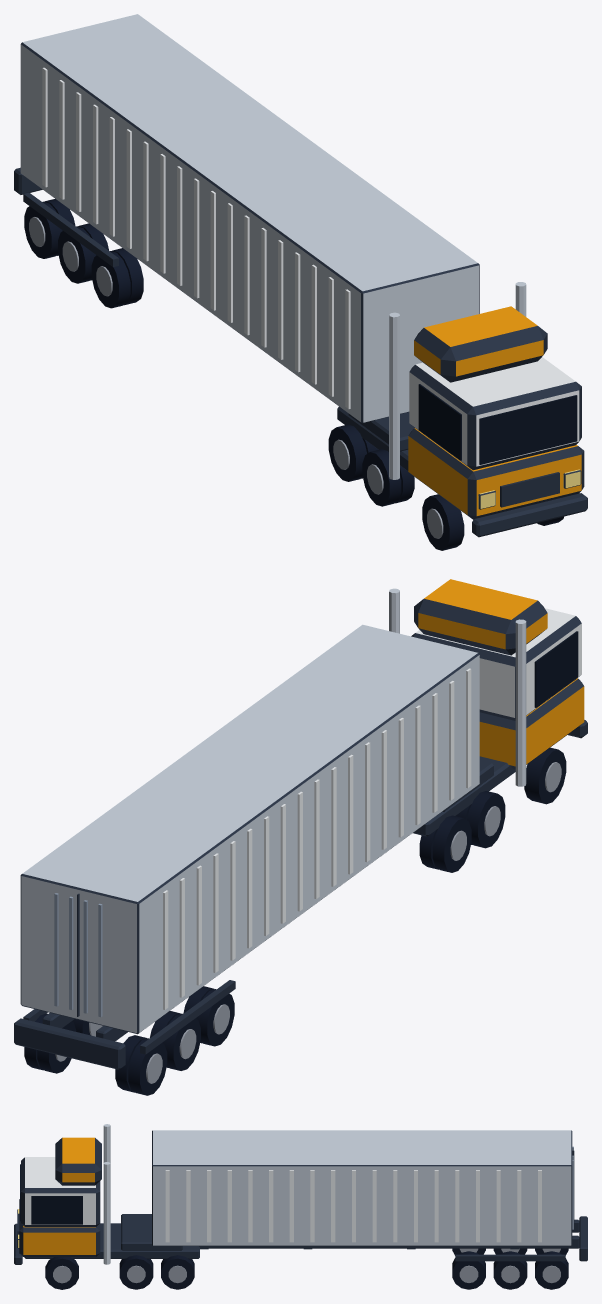
File: trailer.glb
The picture shows the model from 3 angles, top to bottom: view 1: azimuth 30°, elevation 25°; view 2: azimuth 150°, elevation 25°; view 3: azimuth 270°, elevation 25°; orthographic projection. The views are drawn at different scales.
Visible parts, largest first — view 1: trailer; view 2: trailer; view 3: trailer.
Boxes of the visible parts, <box> form: trailer: <box>14,14,587,550</box>; trailer: <box>14,579,587,1095</box>; trailer: <box>14,1124,587,1289</box>.
Size of the model in its own units: 2.8 by 4.1 by 16.65.
